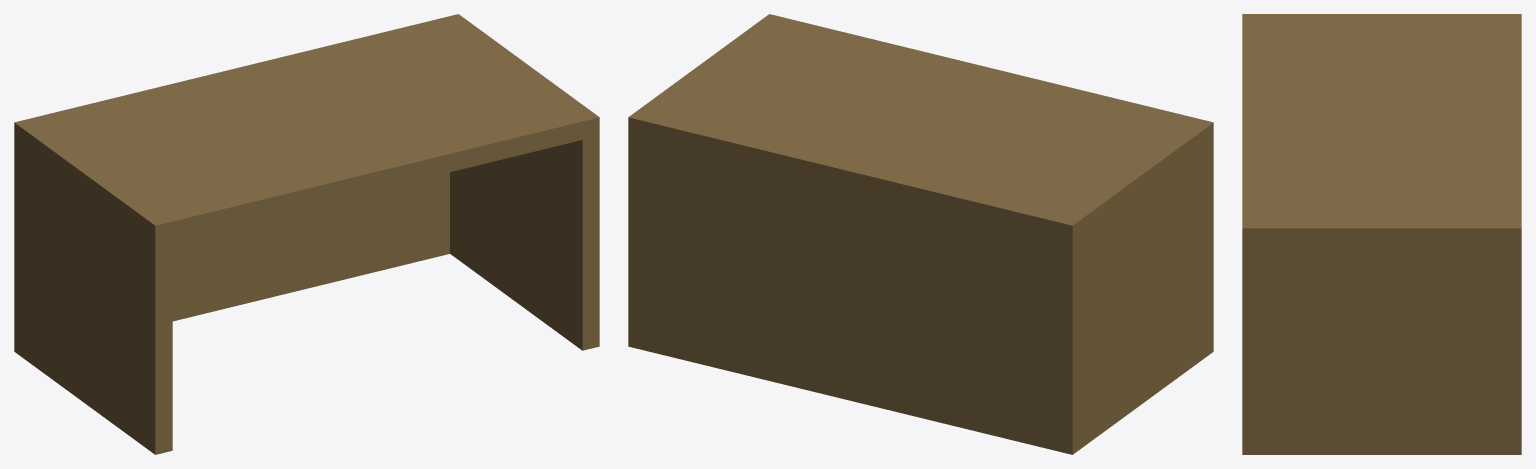
File: Itr_Wardrobe2_Body1_01.FBX
3 renders of one model, left to right at view 1: azimuth 30°, elevation 25°; view 2: azimuth 150°, elevation 25°; view 3: azimuth 270°, elevation 25°, orthographic.
Visible parts, largest first — view 1: Itr_Wardrobe2_Body1_01; view 2: Itr_Wardrobe2_Body1_01; view 3: Itr_Wardrobe2_Body1_01.
Boxes of the visible parts, bbox=[...] form: Itr_Wardrobe2_Body1_01: bbox=[14, 14, 599, 454]; Itr_Wardrobe2_Body1_01: bbox=[628, 14, 1213, 454]; Itr_Wardrobe2_Body1_01: bbox=[1242, 14, 1521, 454].
Bounding box in the file's own units: 39.14 × 19.29 × 21.54.
